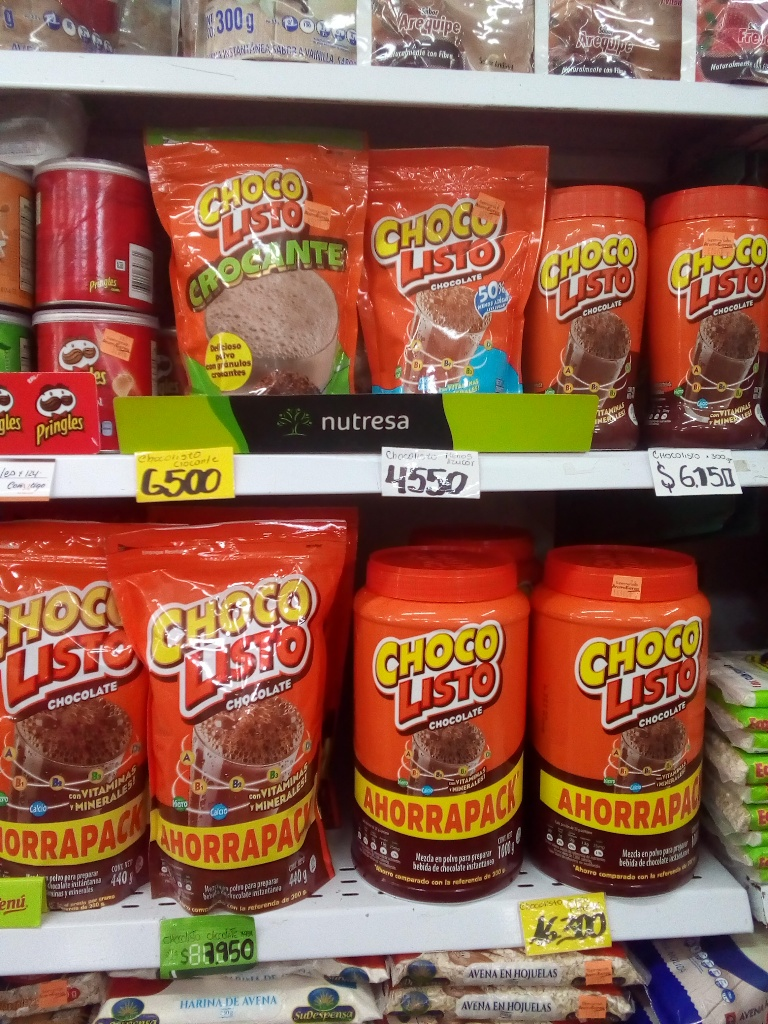COL0170103DYP44000: (113, 514, 360, 912)
COL0170103TRR00100: (530, 535, 719, 897)
COL0170104DYP20000: (363, 137, 542, 395)
